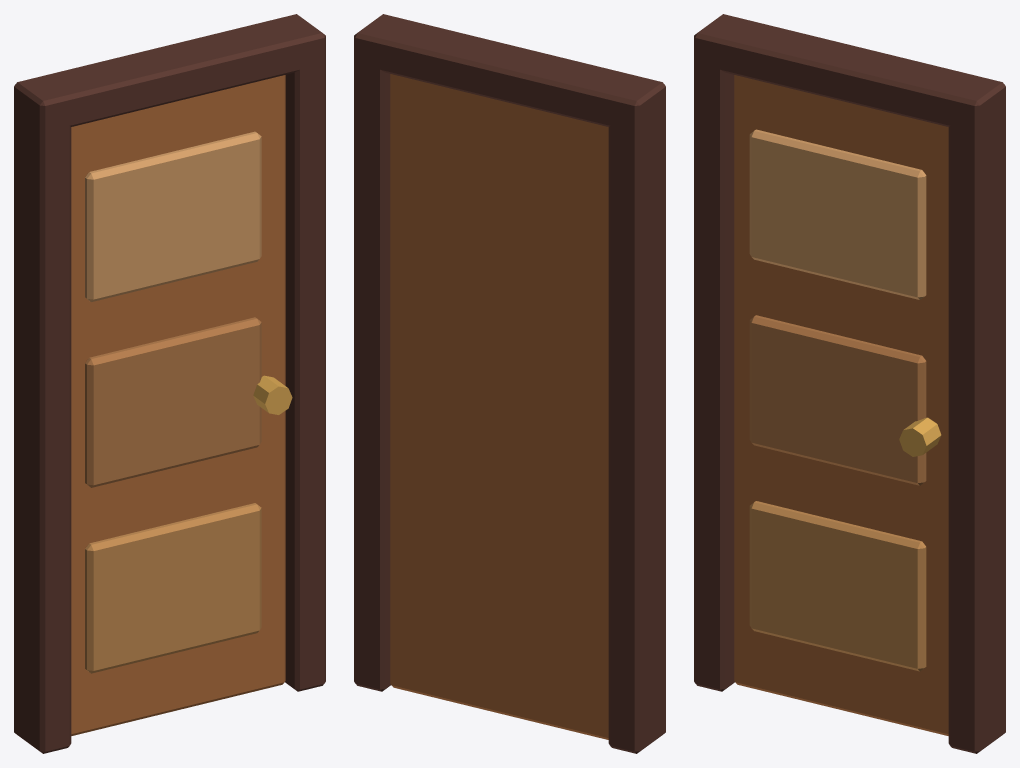
The model's file is door_single.glb.
3 renders of one model, left to right at view 1: azimuth 30°, elevation 25°; view 2: azimuth 150°, elevation 25°; view 3: azimuth 330°, elevation 25°, orthographic.
Parts seen in each view (by area): view 1: Folha, Batente.004, Batente.005, Almofada, Almofada.002, Almofada.001, Verga.002, Maçaneta; view 2: Folha, Batente.004, Batente.005, Verga.002; view 3: Folha, Batente.005, Batente.004, Almofada, Almofada.002, Almofada.001, Verga.002, Maçaneta.
Boxes of the visible parts, x1,y1,x2,y2 form: Folha: [71, 75, 285, 735]; Batente.004: [14, 76, 71, 753]; Batente.005: [272, 14, 325, 691]; Almofada: [85, 503, 261, 673]; Almofada.002: [85, 131, 261, 301]; Almofada.001: [85, 317, 261, 487]; Verga.002: [14, 20, 325, 131]; Maçaneta: [253, 375, 292, 414]; Folha: [390, 74, 608, 739]; Batente.004: [608, 76, 665, 753]; Batente.005: [354, 14, 407, 691]; Verga.002: [354, 20, 665, 131]; Folha: [734, 75, 948, 735]; Batente.005: [948, 76, 1005, 753]; Batente.004: [694, 14, 747, 691]; Almofada: [749, 501, 926, 671]; Almofada.002: [749, 129, 926, 299]; Almofada.001: [749, 315, 926, 485]; Verga.002: [694, 20, 1005, 131]; Maçaneta: [899, 417, 941, 456].
Bounding box in the file's own units: 1 × 2.18 × 0.229.
